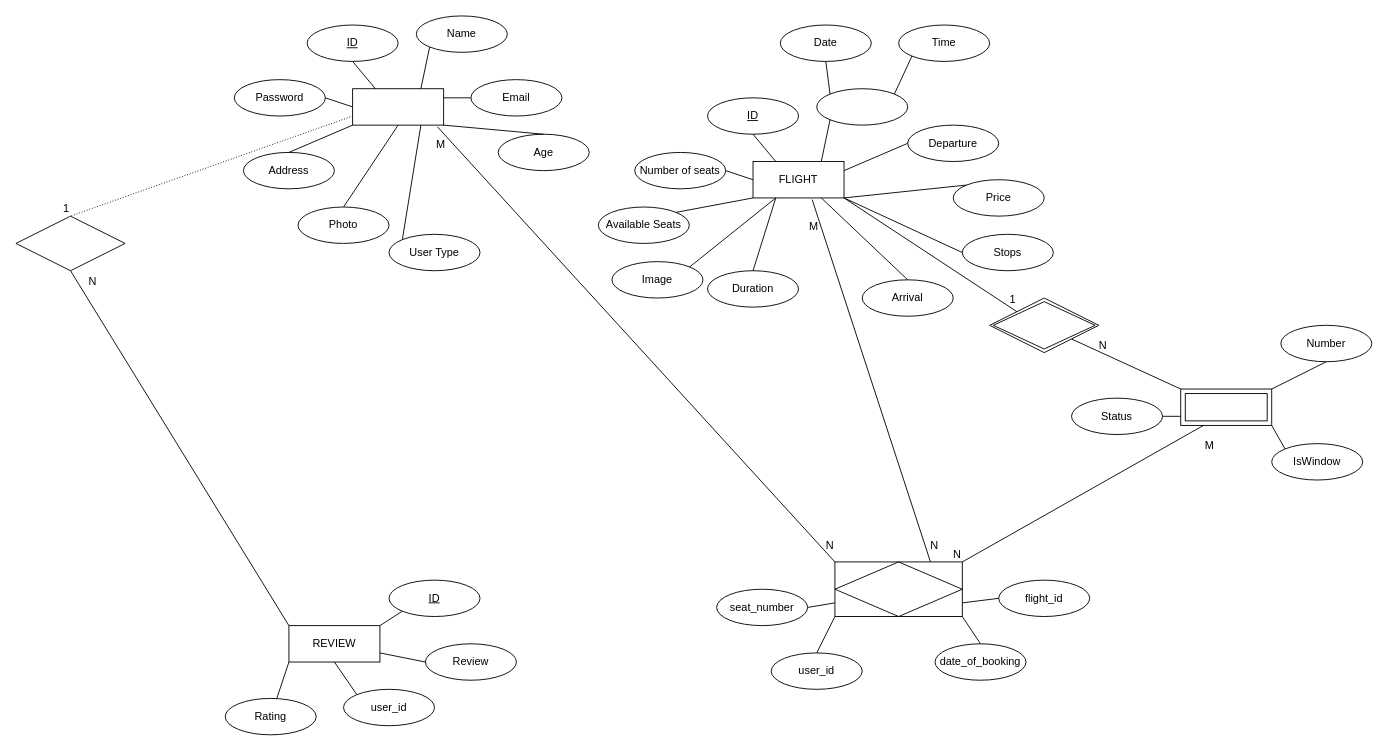
Some shapes in this 1388 by 751 pixel diagram are drawn without their labels. Here are the shapes that lost their labels. From the top down, the centre of each, then its label:
the point at 398,106: USER
the point at 862,106: Date_Time
the point at 70,243: GIVES
the point at 1044,325: HAS
the point at 1226,406: SEAT
the point at 898,589: BOOKING
